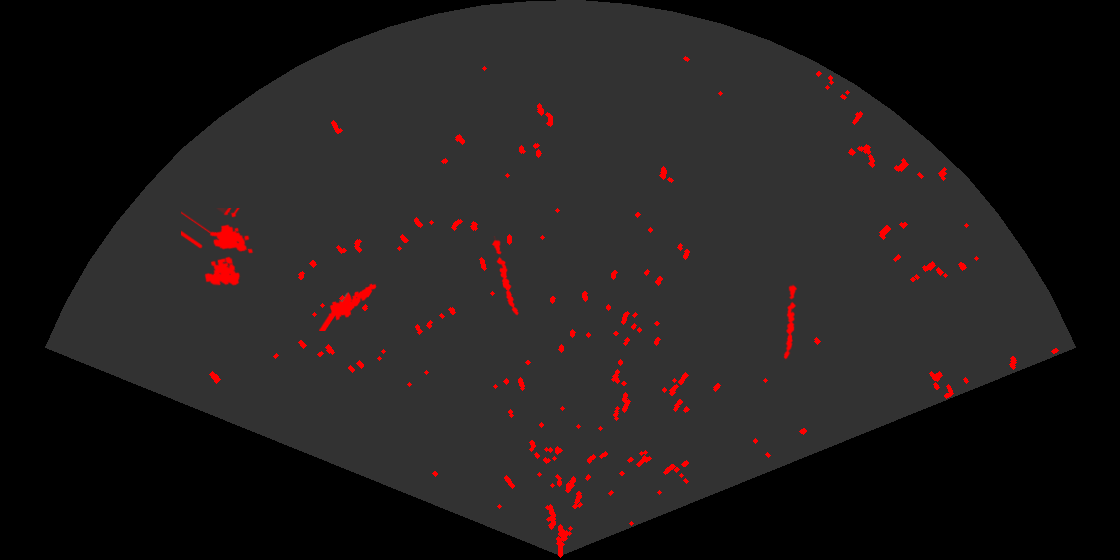cage: (181, 208, 255, 287)
chain: (490, 236, 520, 317), (782, 284, 799, 361)
frogman: (319, 282, 378, 331)
